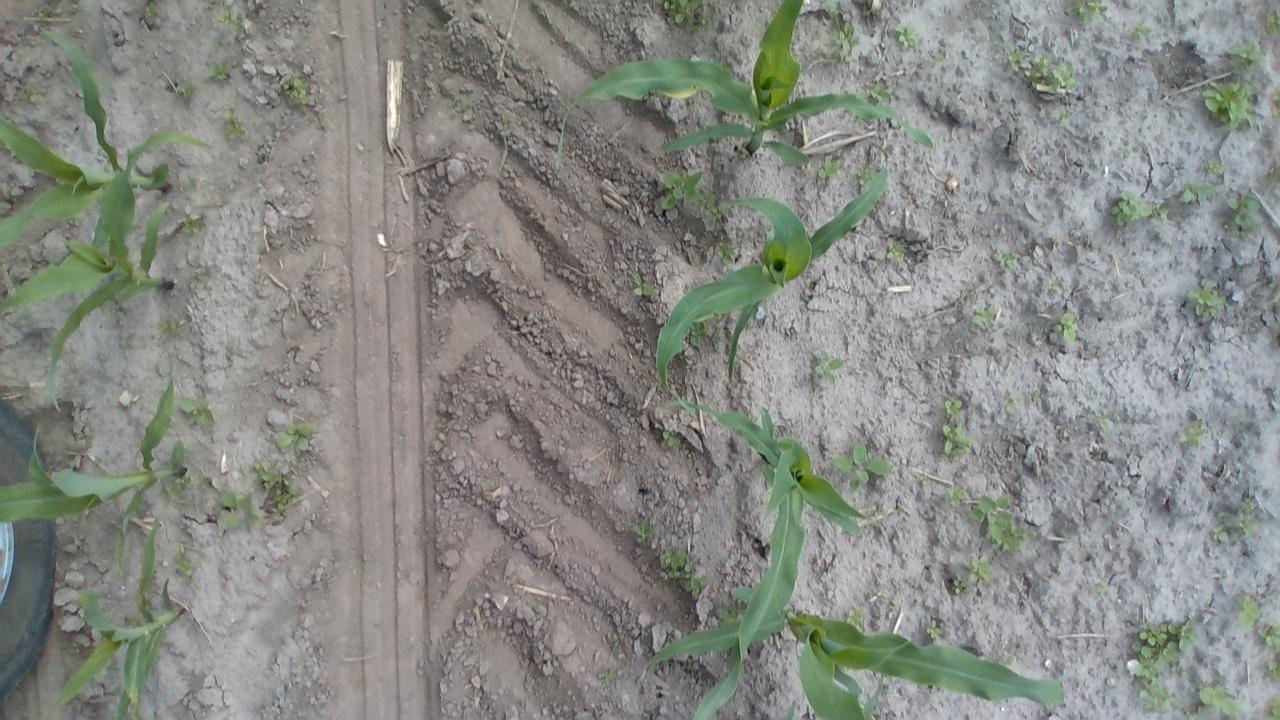Maize: (664, 401, 868, 720), (656, 144, 890, 417), (557, 1, 934, 166), (0, 128, 216, 414), (640, 583, 1064, 720), (0, 24, 212, 258), (0, 378, 189, 569), (45, 514, 188, 720)
Weeds: (1130, 620, 1199, 678), (969, 495, 1034, 550), (1202, 82, 1258, 130), (830, 440, 890, 484), (820, 0, 860, 63), (659, 550, 712, 595), (661, 168, 712, 213), (254, 459, 295, 511), (1028, 56, 1076, 98), (222, 488, 260, 530), (1200, 682, 1240, 718), (1134, 678, 1175, 713), (1112, 191, 1154, 225), (1228, 189, 1264, 226), (660, 0, 704, 30), (1191, 282, 1225, 320), (1227, 35, 1262, 71), (1070, 0, 1106, 31), (275, 422, 311, 452), (940, 425, 969, 461), (1180, 176, 1214, 206), (182, 399, 216, 428), (816, 350, 844, 384), (965, 556, 994, 586), (166, 476, 196, 505), (1236, 592, 1260, 626), (225, 108, 250, 140), (634, 514, 658, 546), (1180, 419, 1210, 444), (1054, 312, 1078, 340), (174, 544, 192, 578), (896, 26, 923, 48), (1258, 622, 1280, 648), (288, 74, 310, 100), (1007, 44, 1024, 77), (208, 61, 235, 80), (995, 249, 1018, 271), (20, 83, 44, 104), (974, 308, 997, 329), (156, 320, 187, 335), (818, 157, 841, 177), (846, 609, 870, 628), (632, 274, 654, 294), (944, 485, 966, 504), (182, 216, 204, 234), (1265, 6, 1280, 32), (1264, 660, 1280, 684), (1212, 524, 1230, 545), (1239, 512, 1256, 534), (690, 322, 704, 348), (711, 207, 728, 228), (1134, 19, 1150, 41), (232, 14, 245, 40), (214, 7, 232, 25), (178, 83, 196, 101), (886, 246, 906, 262), (1094, 408, 1110, 428), (954, 576, 970, 596), (858, 166, 873, 187), (928, 620, 942, 642), (1265, 700, 1280, 720), (662, 430, 680, 446), (944, 399, 960, 417), (722, 244, 736, 264), (1184, 704, 1201, 720), (1006, 394, 1020, 412), (1208, 156, 1222, 173), (1050, 278, 1066, 292), (606, 632, 620, 648), (146, 2, 162, 16), (1056, 108, 1072, 121), (598, 668, 612, 682), (198, 476, 212, 490), (872, 86, 886, 99), (930, 50, 944, 61), (1242, 500, 1255, 511), (1096, 582, 1110, 592), (1032, 390, 1040, 404), (1158, 208, 1168, 216), (40, 10, 49, 16)
